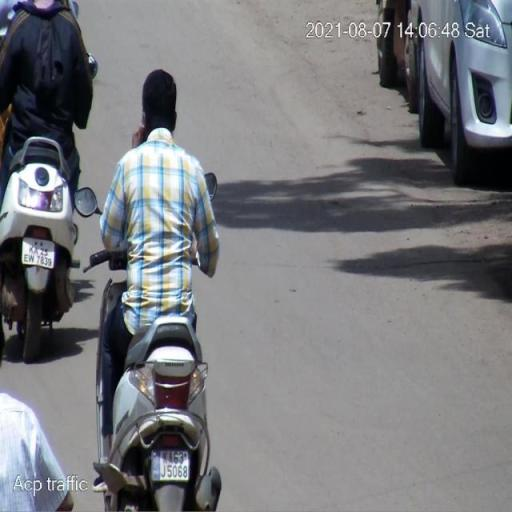numberplate: (152, 446, 192, 482)
using mobile: (134, 107, 149, 143)
